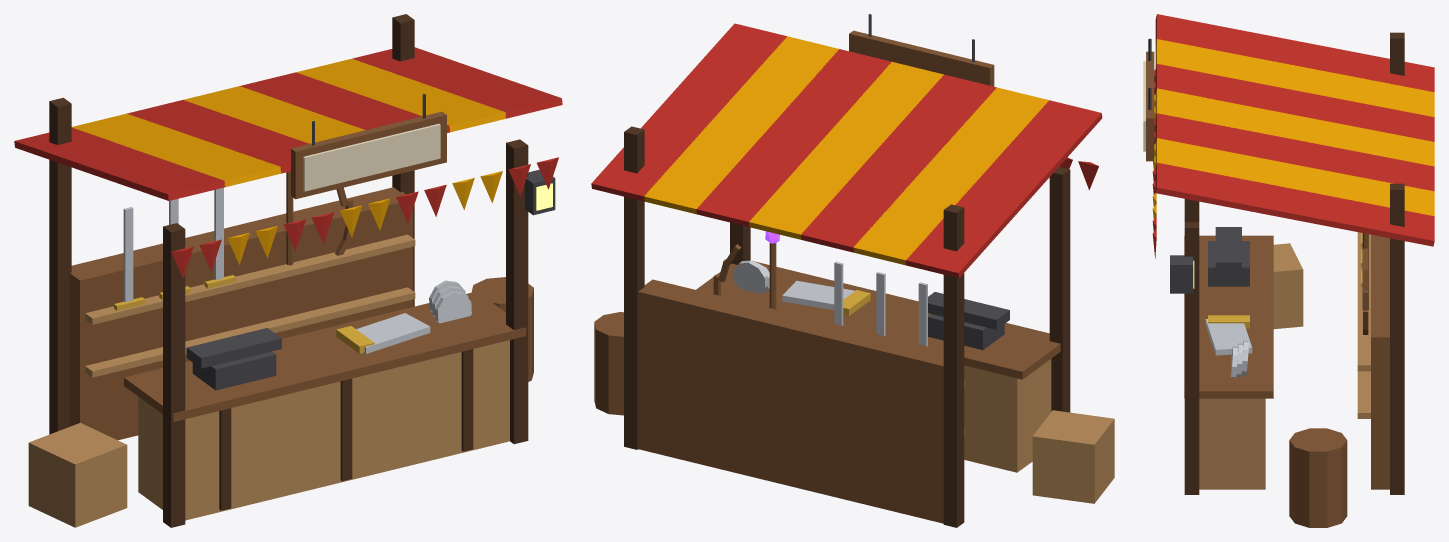
Rendered from Stand_Waffen.fbx.
3 views of the same model, side by side, from view 1: azimuth 30°, elevation 25°; view 2: azimuth 150°, elevation 25°; view 3: azimuth 270°, elevation 25° (orthographic). The views are drawn at different scales.
Parts seen in each view (by area): view 1: Stand_Waffen; view 2: Stand_Waffen; view 3: Stand_Waffen.
Boxes of the visible parts, bbox=[...] form: Stand_Waffen: bbox=[14, 14, 562, 527]; Stand_Waffen: bbox=[591, 14, 1114, 527]; Stand_Waffen: bbox=[1143, 14, 1434, 527].
Bounding box in the file's own units: 5.12 × 3.7 × 2.77.
